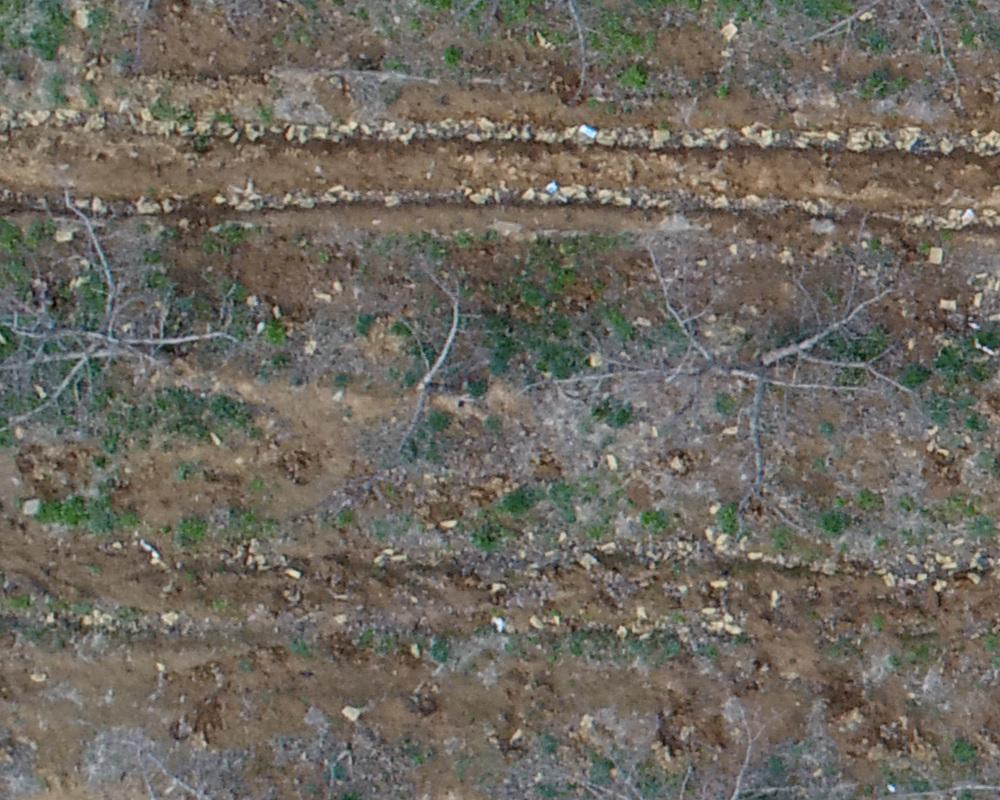apple: (560, 255, 908, 512), (10, 191, 249, 435), (347, 261, 494, 462)
